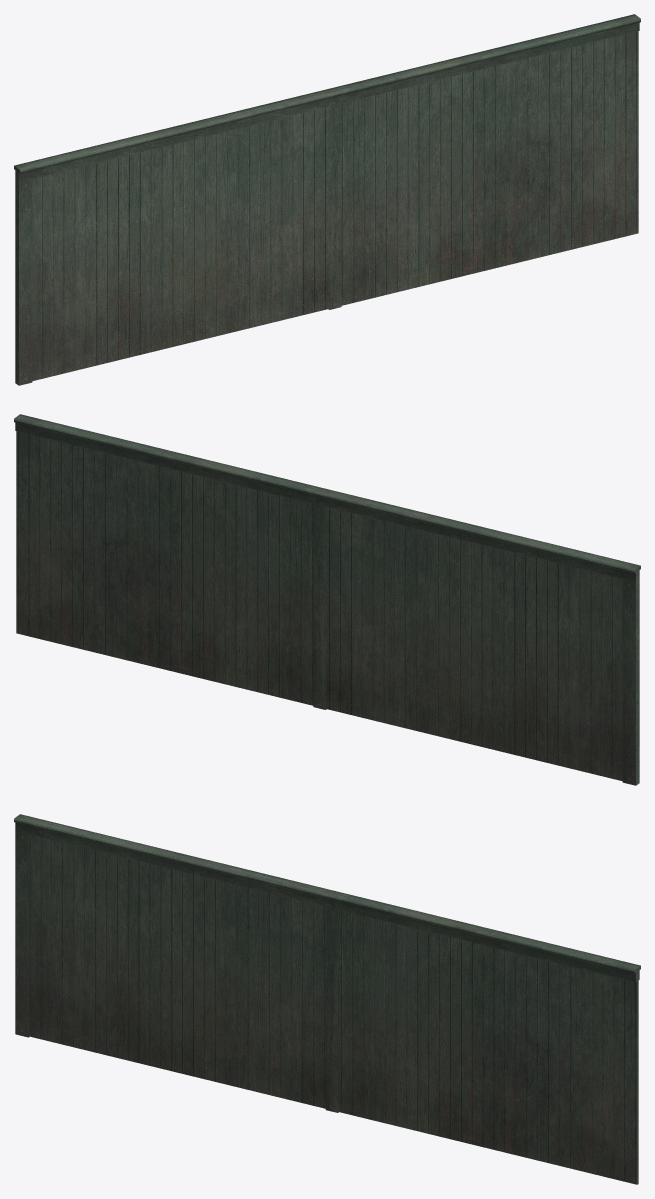
The model's file is Wooden_Fence_03.fbx.
3 renders of one model, top to bottom at view 1: azimuth 30°, elevation 25°; view 2: azimuth 150°, elevation 25°; view 3: azimuth 330°, elevation 25°, orthographic.
Visible parts, largest first — view 1: Wooden_Fence_03; view 2: Wooden_Fence_03; view 3: Wooden_Fence_03.
Boxes of the visible parts, x1=… form: Wooden_Fence_03: x1=14, y1=14, x2=640, y2=385; Wooden_Fence_03: x1=14, y1=414, x2=640, y2=785; Wooden_Fence_03: x1=14, y1=814, x2=640, y2=1184.
Bounding box in the file's own units: 600 × 200 × 10.34.
